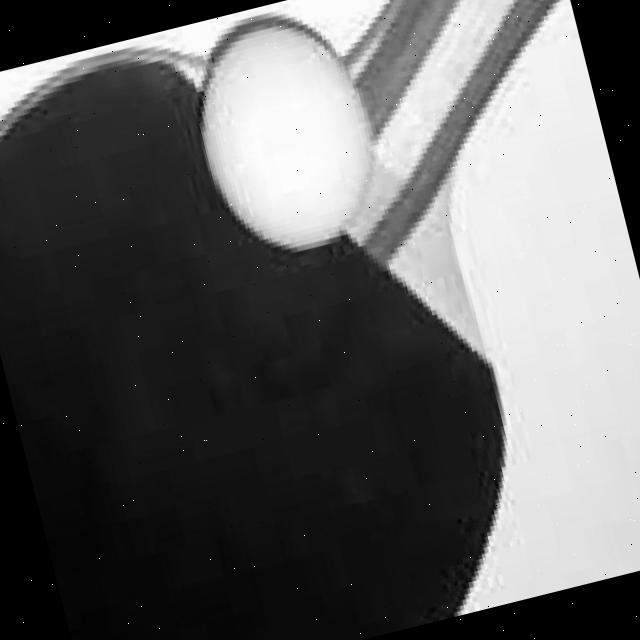ping-pong-ball: (170, 0, 390, 269)
